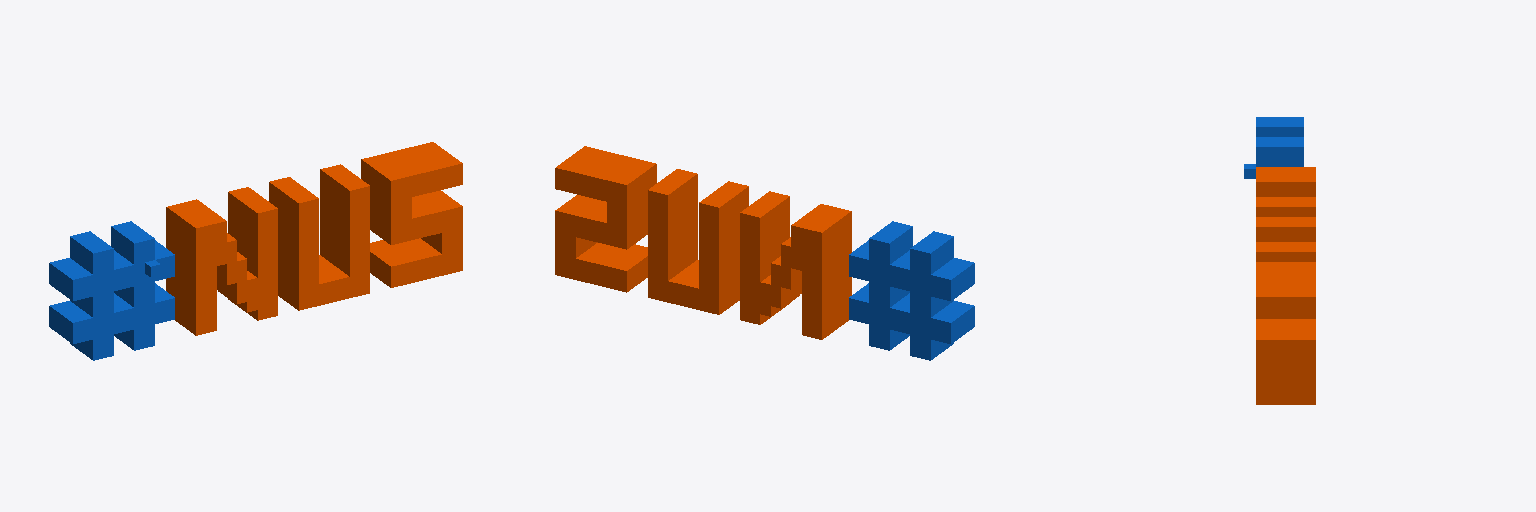
The picture shows the model from 3 angles: view 1: azimuth 30°, elevation 25°; view 2: azimuth 150°, elevation 25°; view 3: azimuth 270°, elevation 25°; orthographic projection.
Parts seen in each view (by area): view 1: object 1; view 2: object 1; view 3: object 1.
Part boxes in pixels (x1,y1,x2,y2): object 1: (49,142,462,360); object 1: (555,146,974,360); object 1: (1244,117,1315,404).
Bounding box in the file's own units: 3.8 × 1 × 0.6.
Materials: 1 (1 with a texture image).